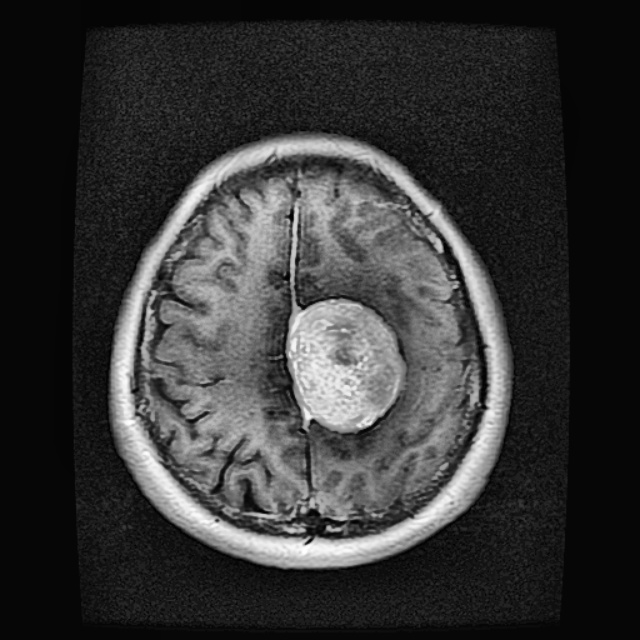Pituitary: (288, 299, 407, 429)
